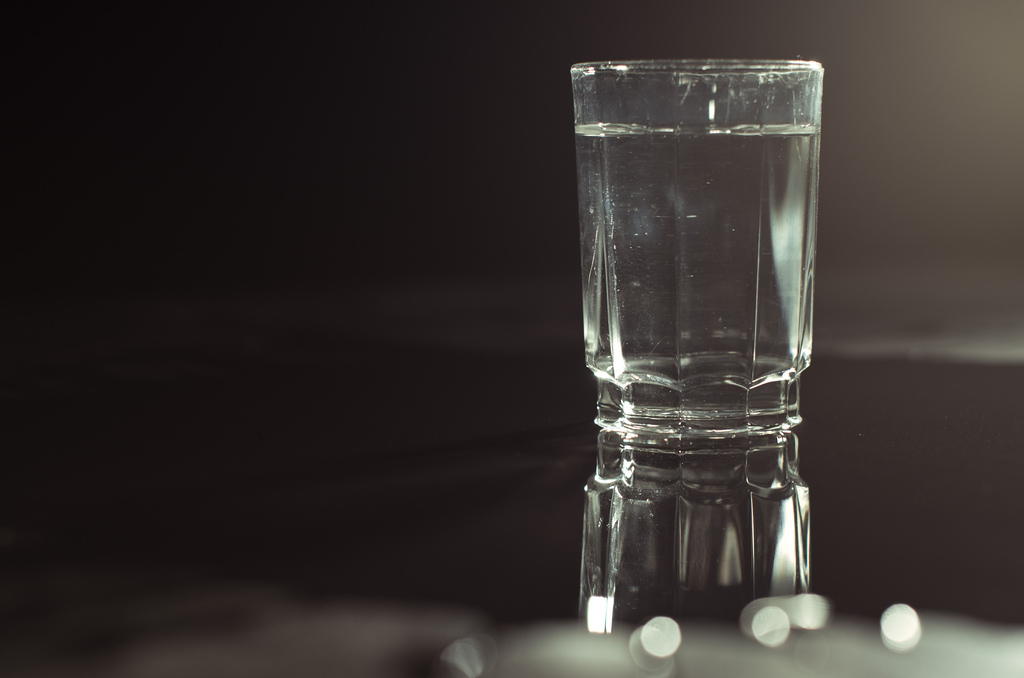glass of water: (568, 67, 821, 397)
